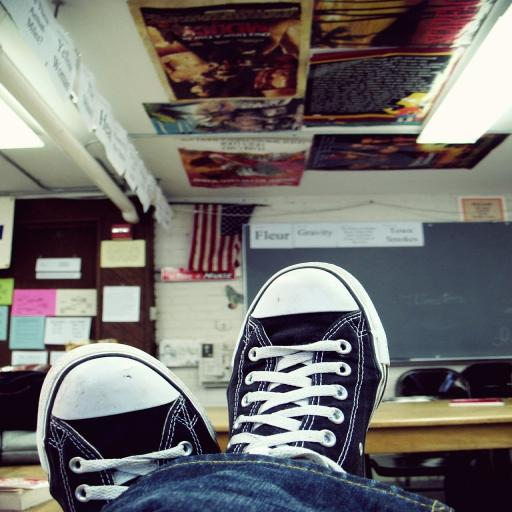shoe: (227, 262, 389, 476), (37, 343, 220, 512)
